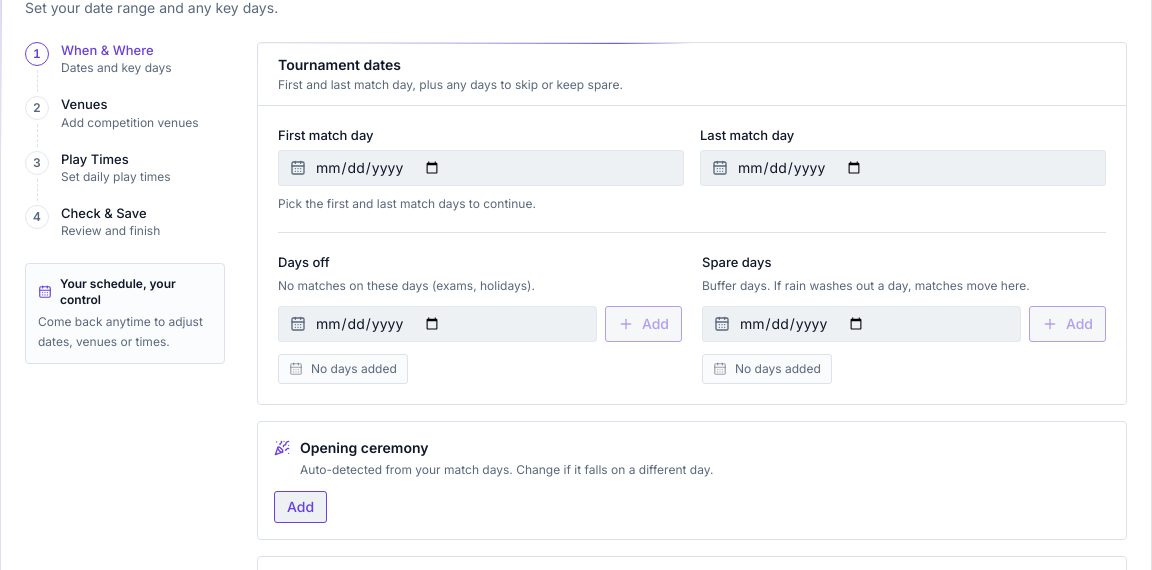
Test: GlobalSetupWizard › auto-detects ceremony dates from the match window
The width and height of the screenshot is (1152, 570).
Type "2026-08-01" into the date field labelled "First match day" at [481, 168], box [278,150,684,186]
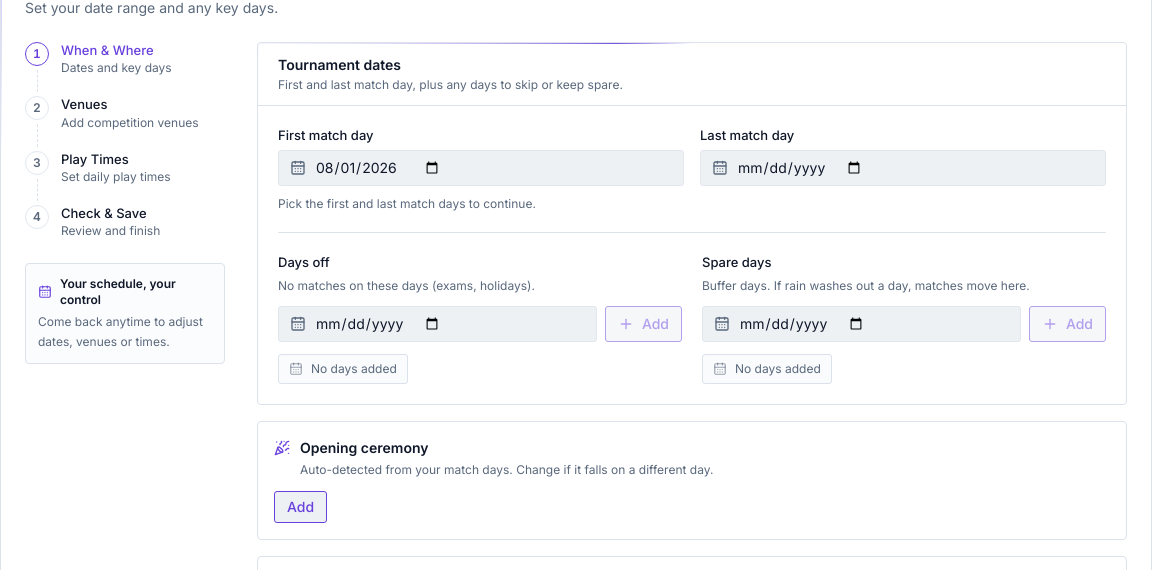
Type "2026-08-05" into the date field labelled "Last match day" at [903, 168], box [700,150,1106,186]
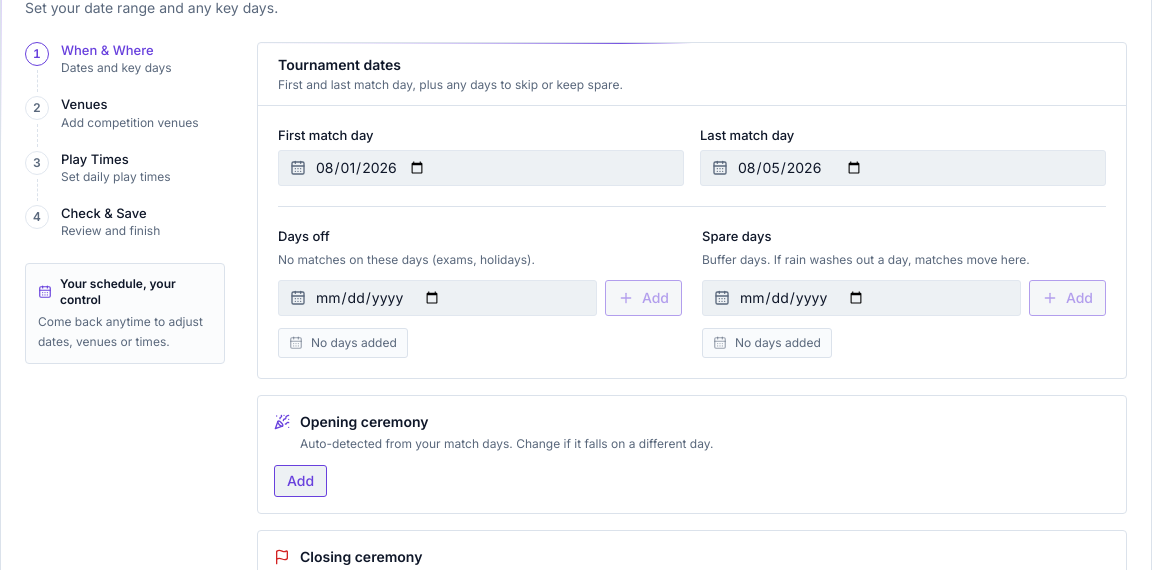
Note: Adding the opening ceremony prefills its date with the first match day…
Click the button with test id "opening-add" at [301, 481], box [274,465,327,497]
(page scrolled)
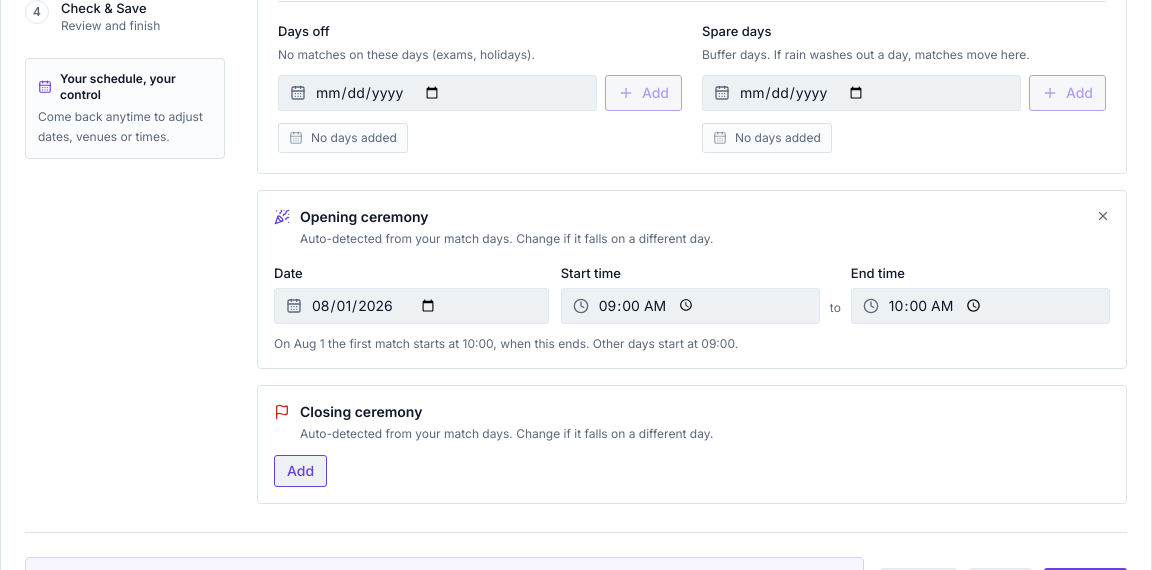
Expected: the date field with test id "opening-date" holds "2026-08-01", [274,288,549,324]
Note: …and the closing ceremony with the last match day.
Click the button with test id "closing-add" at [301, 471], box [274,455,327,487]
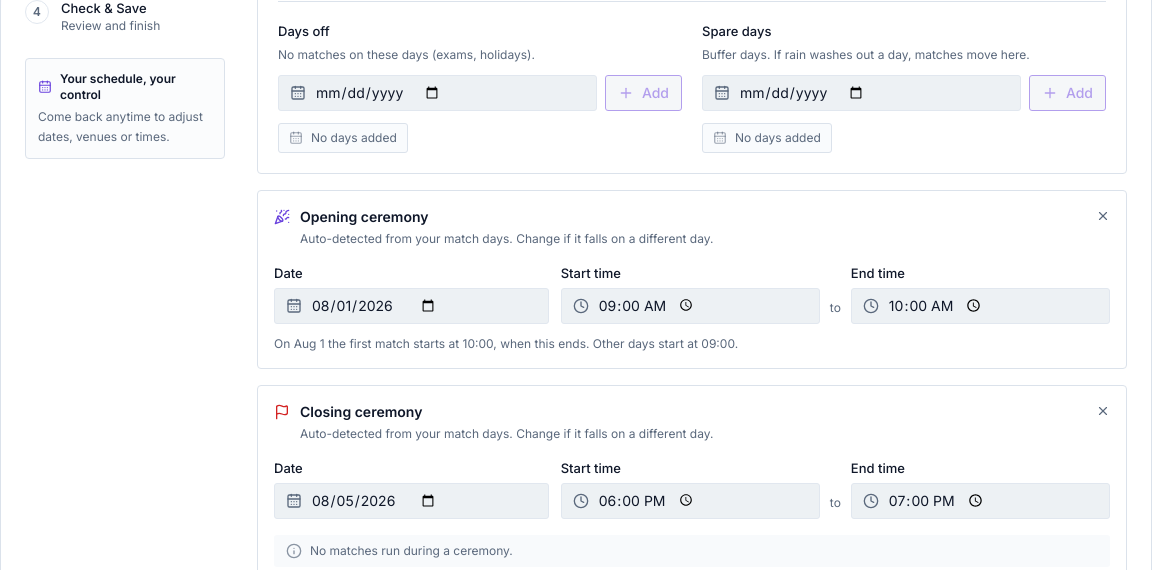
Expected: the date field with test id "closing-date" holds "2026-08-05", [274,482,549,518]
